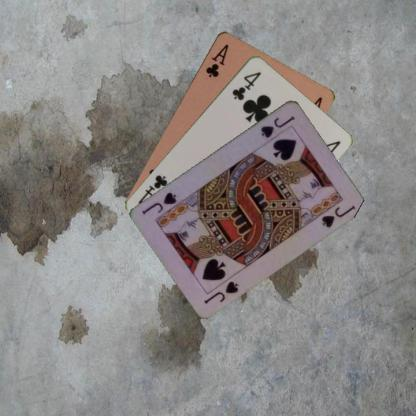4c: (229, 68, 263, 102)
Ac: (203, 41, 230, 79)
Js: (201, 278, 240, 305), (258, 112, 296, 138)
